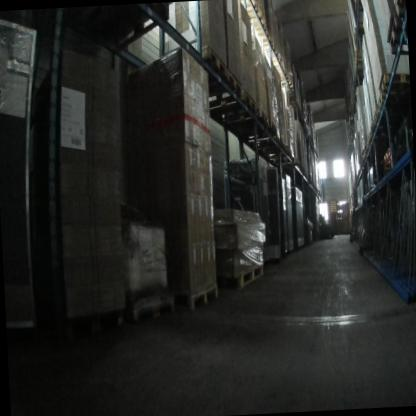pallet: (206, 71, 242, 108), (130, 295, 175, 324), (208, 90, 256, 115), (217, 263, 264, 287), (201, 45, 227, 80), (387, 14, 408, 56), (225, 109, 268, 129), (187, 284, 218, 311), (373, 106, 411, 126), (379, 73, 410, 97), (247, 123, 280, 144), (376, 94, 409, 113), (370, 118, 402, 132), (240, 0, 258, 11), (393, 0, 406, 15), (280, 139, 286, 151), (286, 145, 292, 156), (366, 131, 372, 142), (353, 29, 357, 43), (354, 0, 359, 10)
